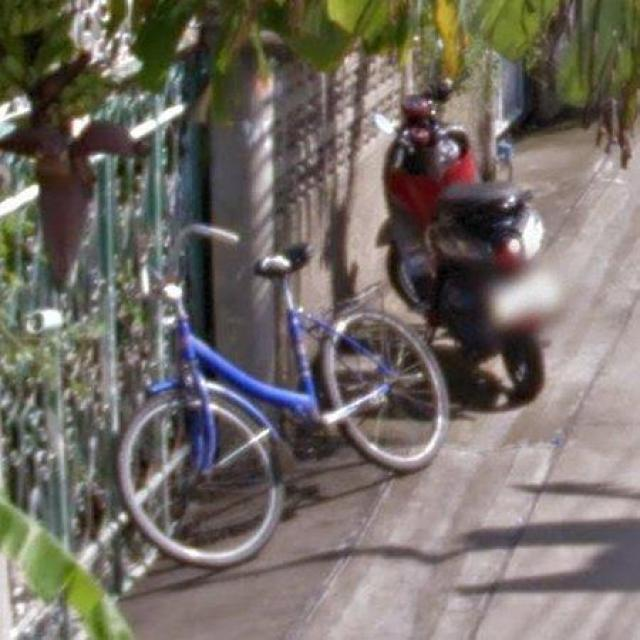bicycle: (120, 247, 449, 569)
